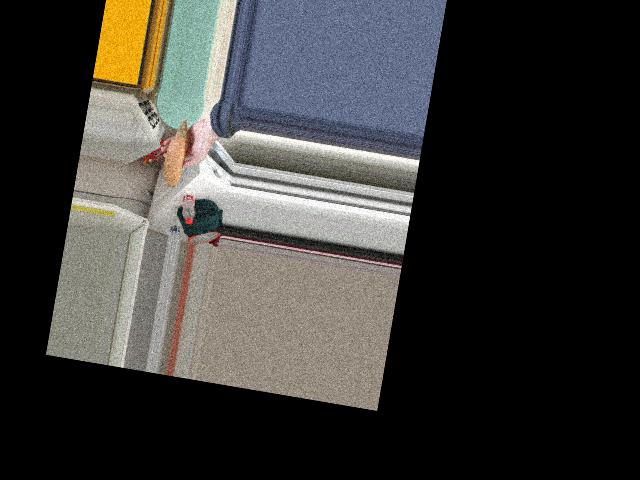sweet_potato: (160, 131, 193, 195)
